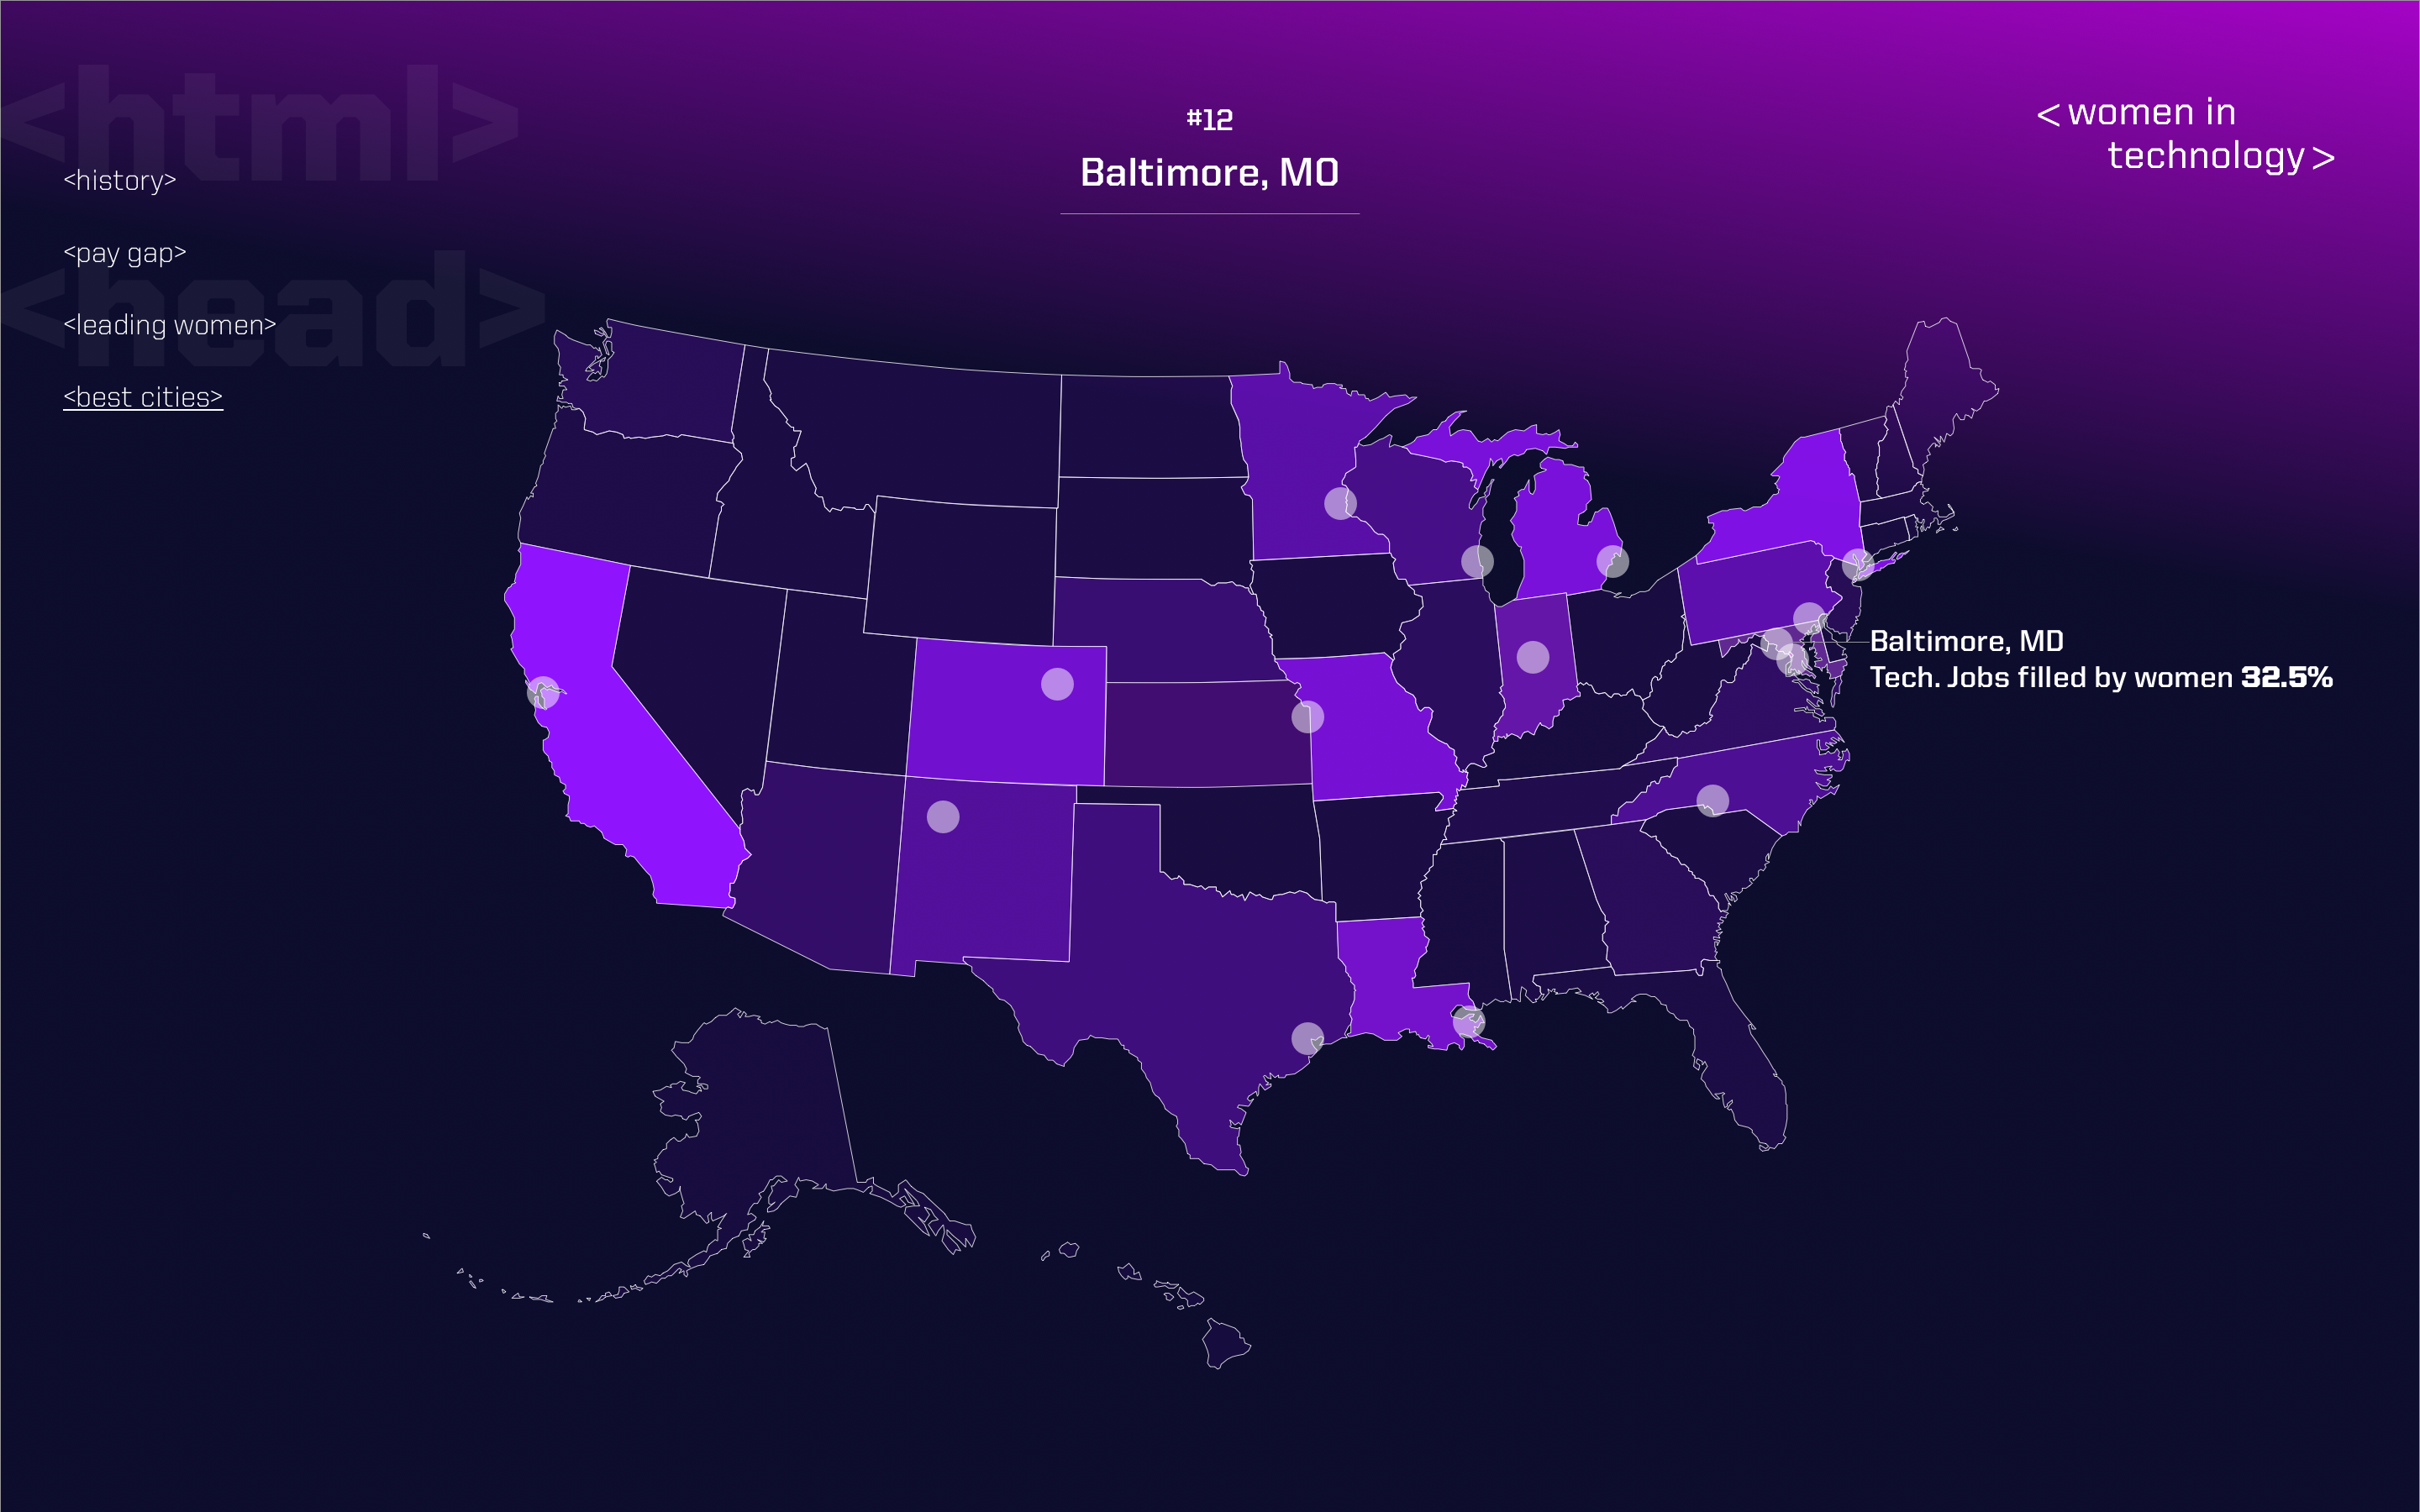

What the dashboard file says about the page in this screenshot:
{"tool":"tableau","page":{"name":"The Best Cities for Women in Tech","canvas":[1020,625],"ordinal":0},"visuals":[{"type":"web page","param":"https://smartasset.com/career/best-cities-women-tech","box":[0,0,510,625]},{"type":"worksheet","title":"The Best Cities for WIT","mark":"Automatic","box":[510,0,510,625]}]}

Visuals, with their boxes in screenshot pixels (x1, y1, x2, y2), scaled from the page's 1020x625 canvas onto the 2420x1512 screenshot:
web page: (0, 0, 1210, 1511)
"The Best Cities for WIT" worksheet: (1210, 0, 2419, 1511)
